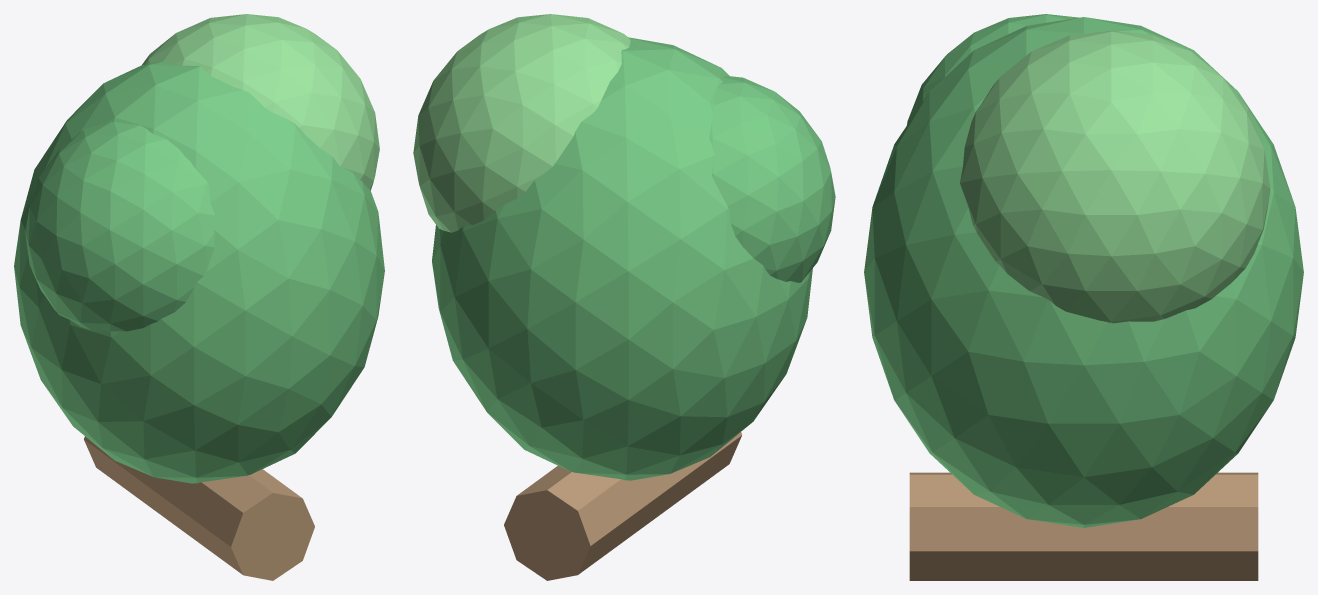
The model's file is tree.glb.
3 views of the same model, side by side, from view 1: azimuth 30°, elevation 25°; view 2: azimuth 150°, elevation 25°; view 3: azimuth 270°, elevation 25° (orthographic). The views are drawn at different scales.
Parts seen in each view (by area): view 1: CrownA, CrownC, CrownB, Trunk; view 2: CrownA, CrownB, CrownC, Trunk; view 3: CrownA, CrownB, Trunk, CrownC.
Part boxes in pixels (x1,y1,x2,y2): CrownA: (14,61,384,483); CrownC: (25,122,215,331); CrownB: (142,14,379,190); Trunk: (84,436,314,580); CrownA: (432,37,812,480); CrownB: (413,14,630,232); CrownC: (709,75,835,282); Trunk: (504,432,741,580); CrownA: (864,17,1303,527); CrownB: (960,30,1270,323); Trunk: (909,472,1258,580); CrownC: (907,14,1078,124).
Size of the model in its own units: 3.14 by 4.13 by 2.9.
